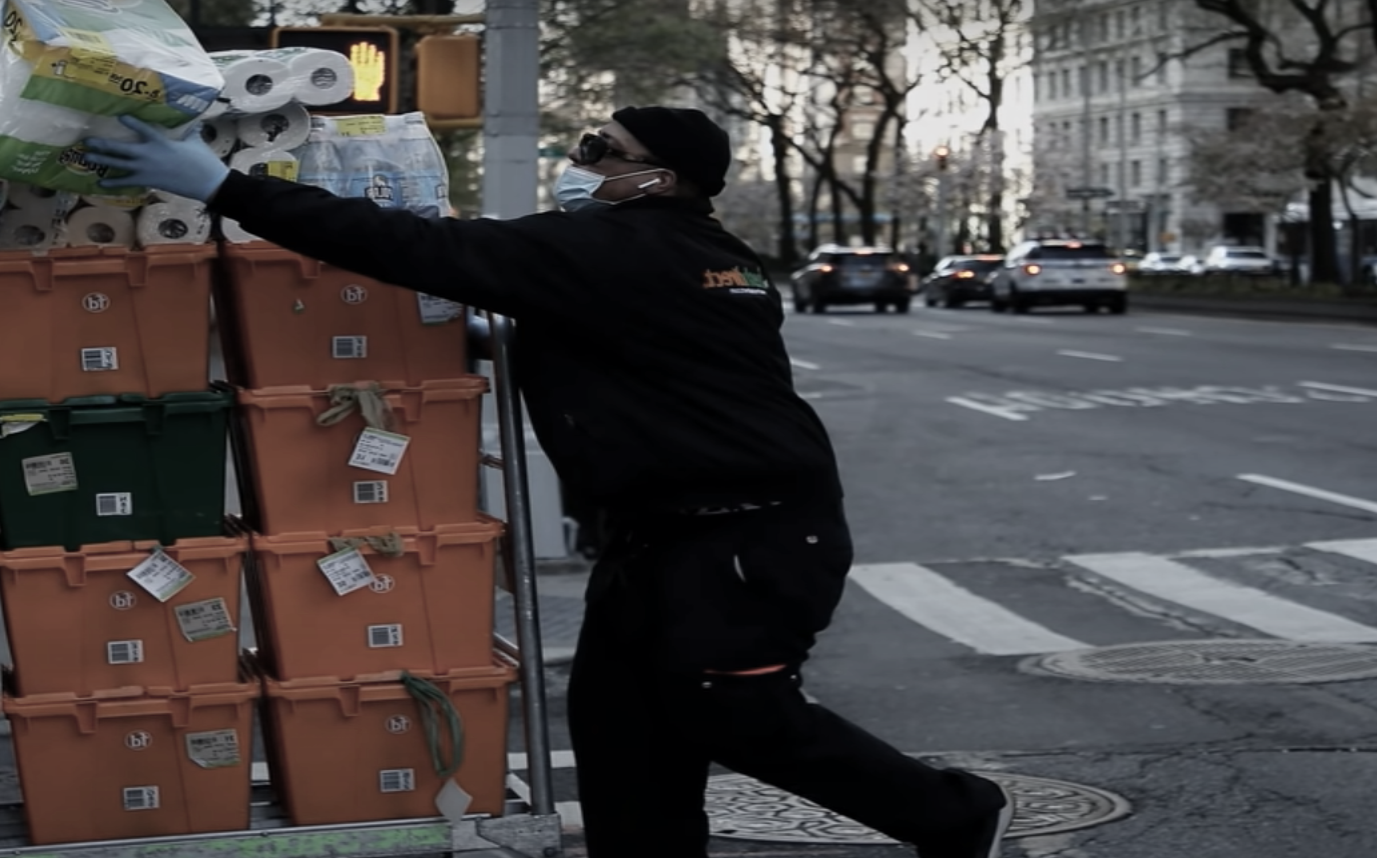mask_weared_incorrect: (551, 104, 727, 217)
